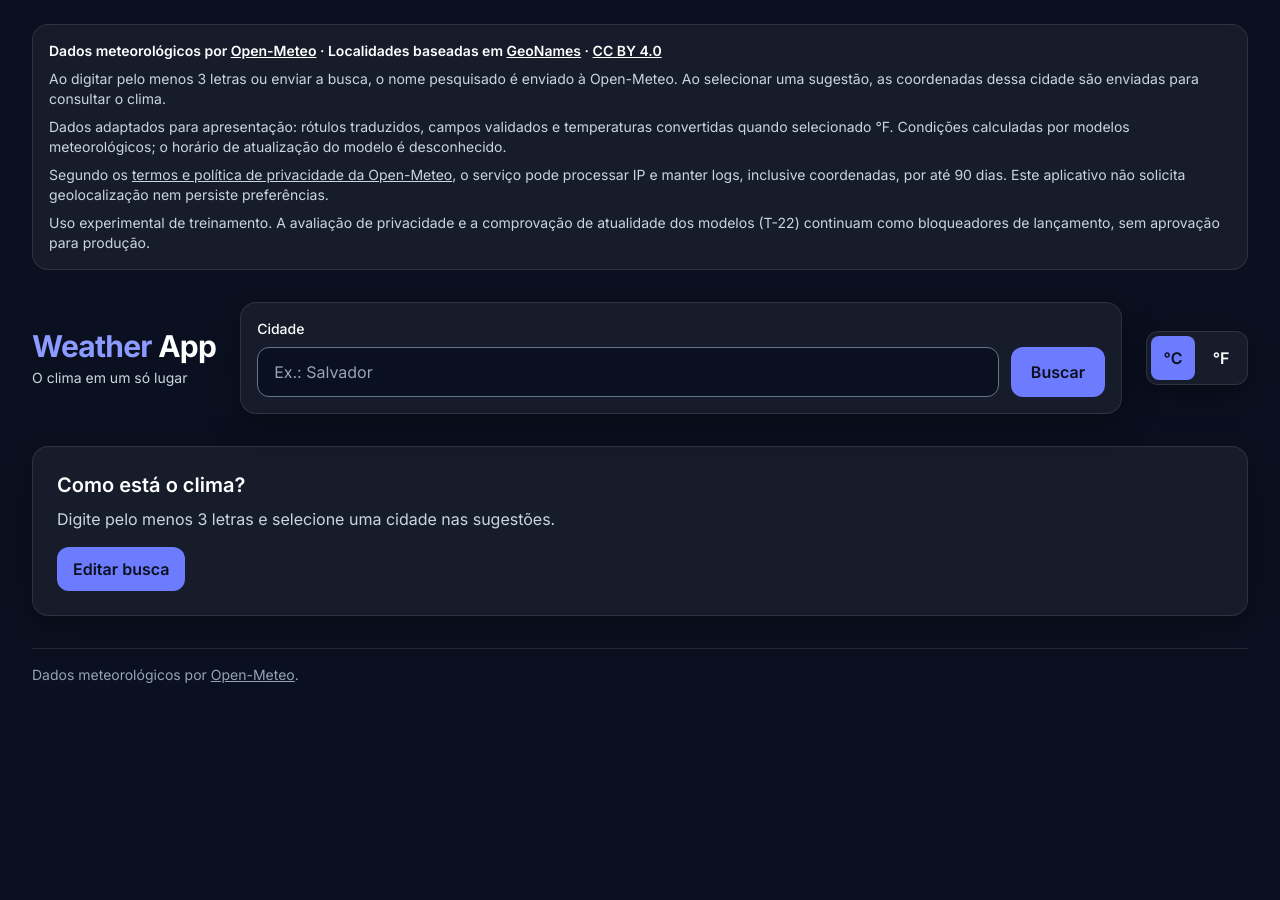
Test: App com API e estados independentes › envio do formulário só lista cidades, sem escolher a primeira
Type "Sal" into the dropdown labelled "Cidade" at (628, 372), box [257,347,999,397]
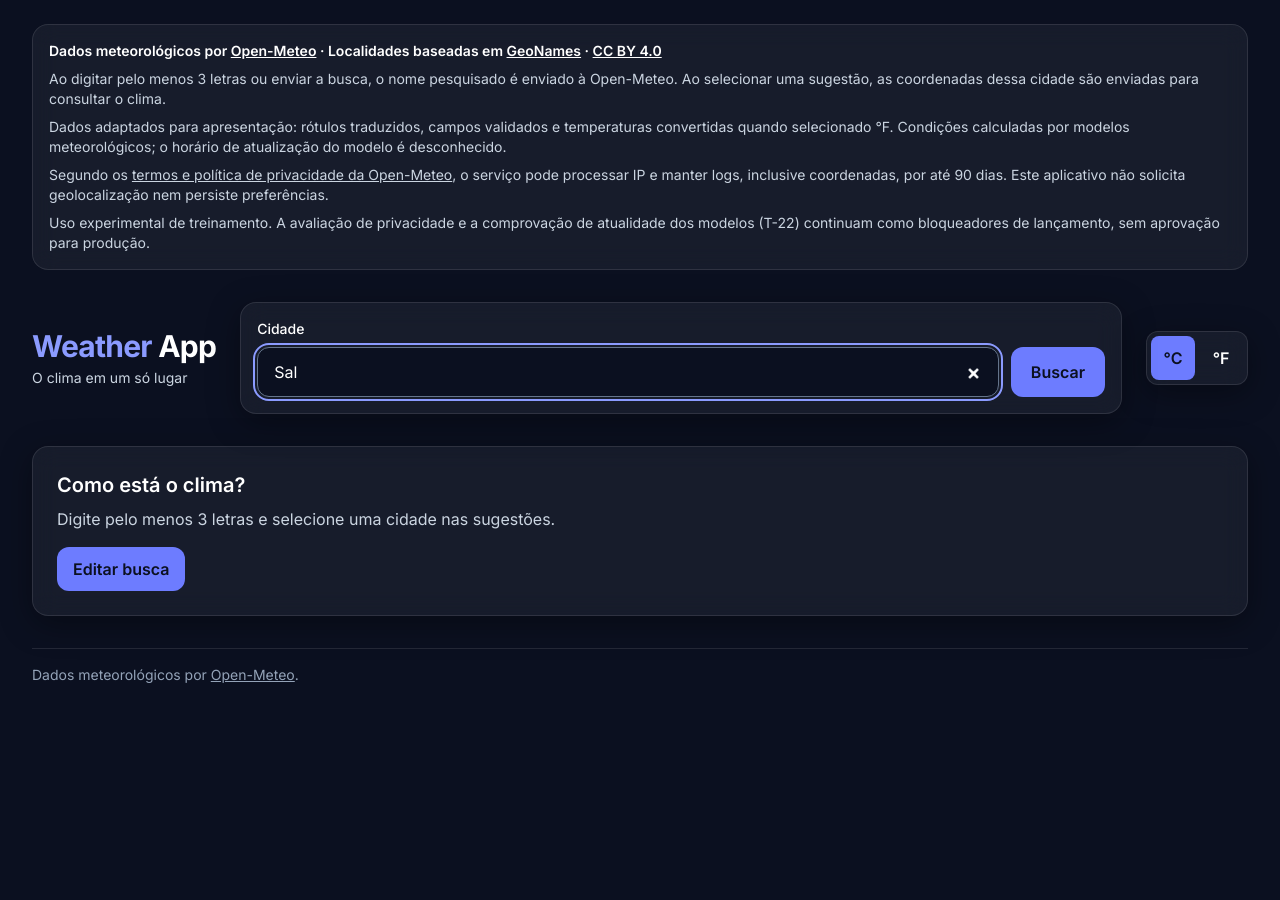
Click the button "Buscar" at (1058, 372), box [1011,347,1105,397]
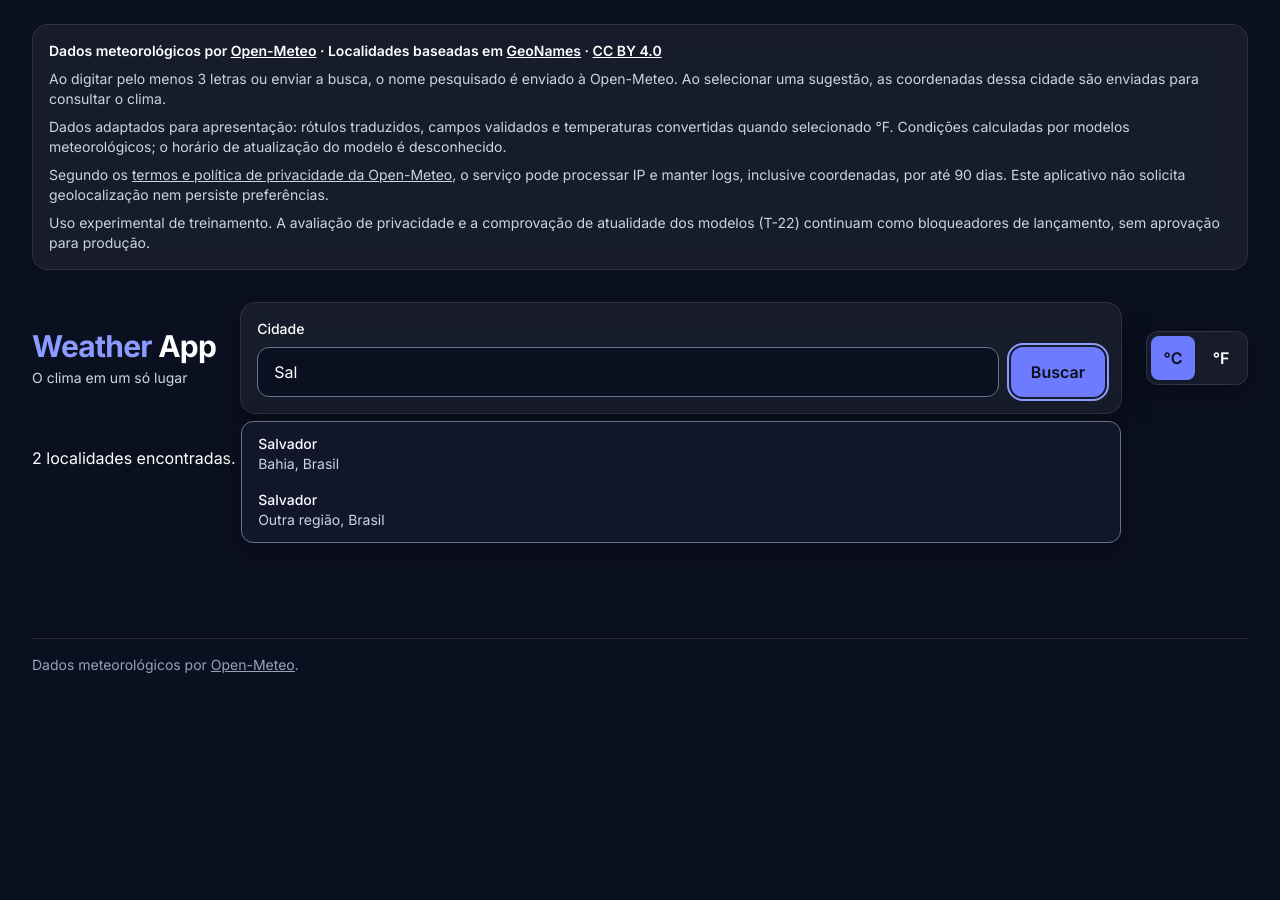
Expected: the option "Salvador Bahia, Brasil" is shown, [246,426,1116,482]
